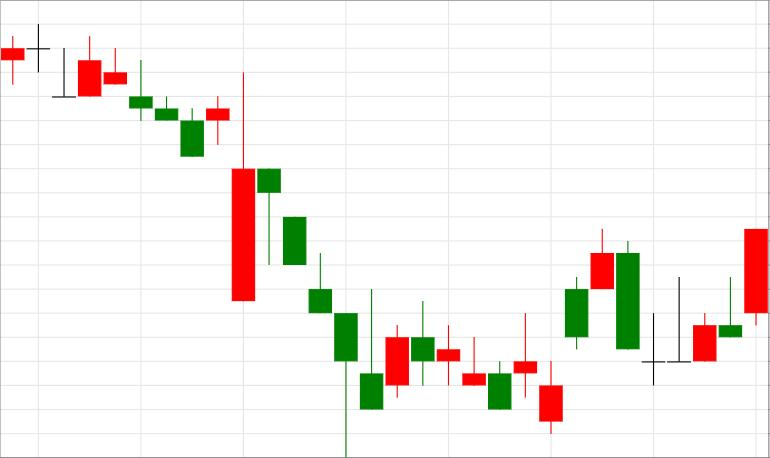hammer_rise: (231, 72, 358, 458)
inverse_hammer_rise: (232, 71, 383, 458)
